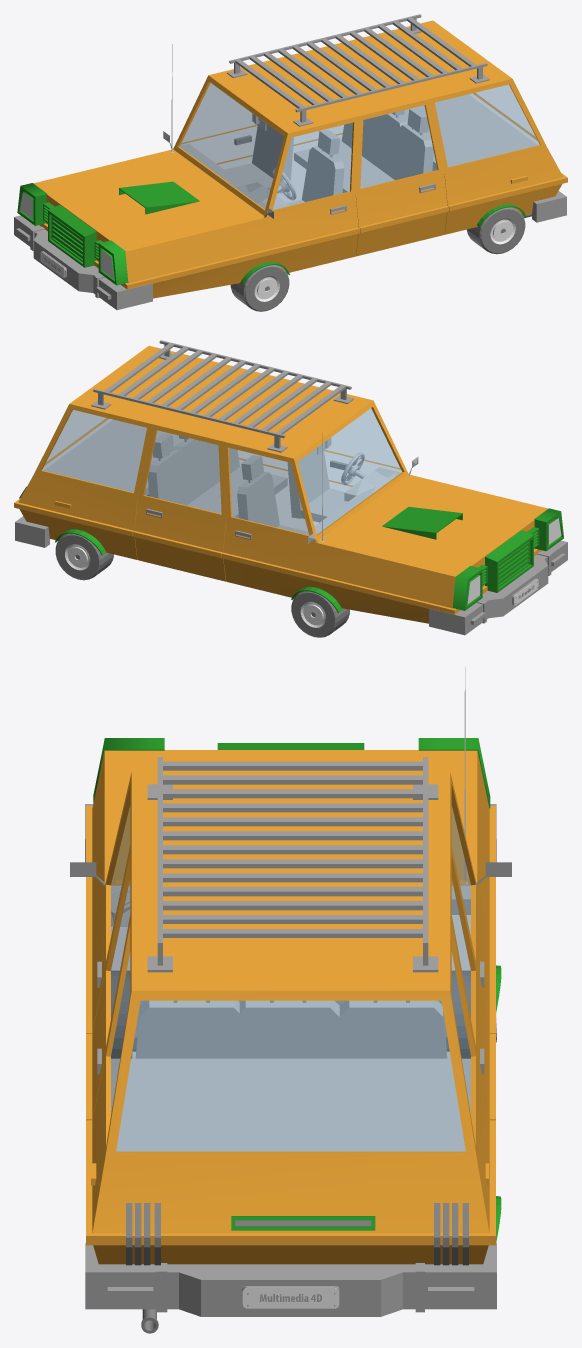
Rendered from Instacart_Project_car.gltf.
The picture shows the model from 3 angles, top to bottom: view 1: azimuth 30°, elevation 25°; view 2: azimuth 150°, elevation 25°; view 3: azimuth 270°, elevation 25°; orthographic projection. The views are drawn at different scales.
Visible parts, largest first — view 1: body-Orange, body-Glass, hood, back (×2), front, seat01, ventilation, seat03, seat04, seat02, car, TIRE01-Black (+8 smaller); view 2: body-Orange, body-Glass, hood, back (×2), front, seat01, ventilation, seat02, seat05, seat04, car, TIRE02-Black (+8 smaller); view 3: body-Orange, body-Glass, back (×2), hood, seat03, seat05, seat04, car, number plate white, 02-Mat.9, TIRE01-Black, TIRE02-Black (+6 smaller).
Boxes of the visible parts, x1=… form: body-Orange: x1=33, y1=20, x2=567, y2=298; body-Glass: x1=180, y1=83, x2=539, y2=209; hood: x1=227, y1=14, x2=489, y2=126; back (×2): x1=400, y1=94, x2=566, y2=222; front: x1=14, y1=215, x2=152, y2=310; seat01: x1=287, y1=130, x2=344, y2=205; ventilation: x1=43, y1=202, x2=102, y2=267; seat03: x1=344, y1=108, x2=433, y2=192; seat04: x1=342, y1=110, x2=407, y2=192; seat02: x1=225, y1=124, x2=293, y2=193; car: x1=119, y1=181, x2=199, y2=214; TIRE01-Black: x1=230, y1=265, x2=289, y2=311; body-Orange: x1=14, y1=345, x2=548, y2=623; body-Glass: x1=42, y1=408, x2=401, y2=534; hood: x1=91, y1=340, x2=353, y2=452; back (×2): x1=15, y1=419, x2=183, y2=547; front: x1=429, y1=540, x2=567, y2=635; seat01: x1=287, y1=448, x2=347, y2=522; ventilation: x1=478, y1=527, x2=539, y2=592; seat02: x1=237, y1=455, x2=306, y2=533; seat05: x1=148, y1=433, x2=237, y2=517; seat04: x1=174, y1=435, x2=238, y2=517; car: x1=19, y1=486, x2=462, y2=539; TIRE02-Black: x1=291, y1=591, x2=349, y2=637; body-Orange: x1=86, y1=750, x2=495, y2=1264; body-Glass: x1=111, y1=806, x2=470, y2=1151; back (×2): x1=85, y1=1058, x2=496, y2=1316; hood: x1=147, y1=757, x2=438, y2=972; seat03: x1=132, y1=1000, x2=246, y2=1058; seat05: x1=337, y1=1000, x2=450, y2=1058; seat04: x1=233, y1=1000, x2=342, y2=1058; car: x1=126, y1=1203, x2=468, y2=1265; number plate white: x1=242, y1=1287, x2=339, y2=1308; 02-Mat.9: x1=231, y1=1216, x2=375, y2=1230; TIRE01-Black: x1=111, y1=970, x2=137, y2=1058; TIRE02-Black: x1=445, y1=970, x2=470, y2=1058.
Bounding box in the file's own units: 87.67 × 35.4 × 35.5.
